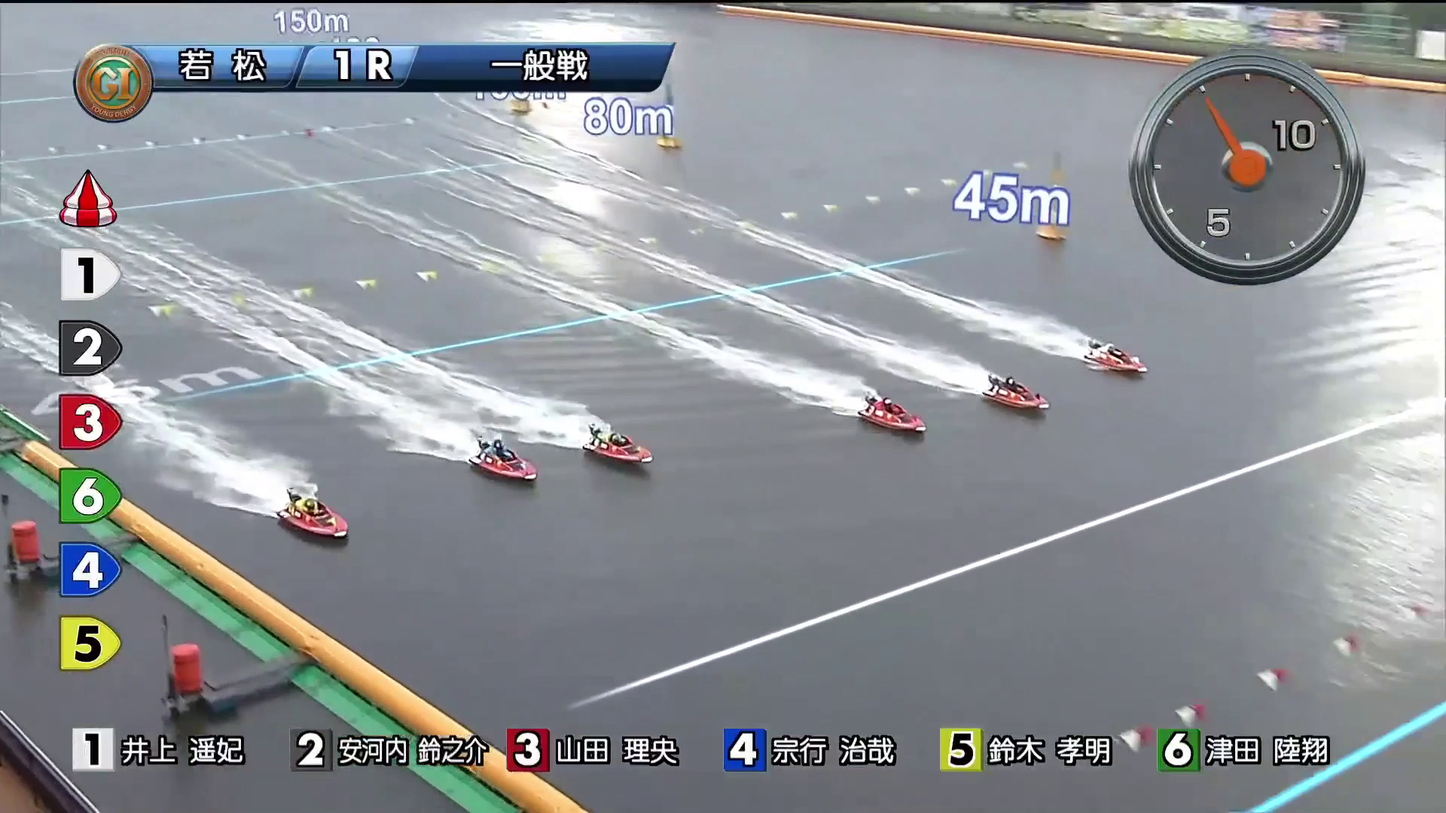１号艇: (1084, 336, 1143, 383)
２号艇: (981, 376, 1043, 413)
３号艇: (861, 393, 916, 434)
４号艇: (588, 427, 650, 470)
５号艇: (466, 442, 535, 480)
６号艇: (279, 494, 345, 540)
